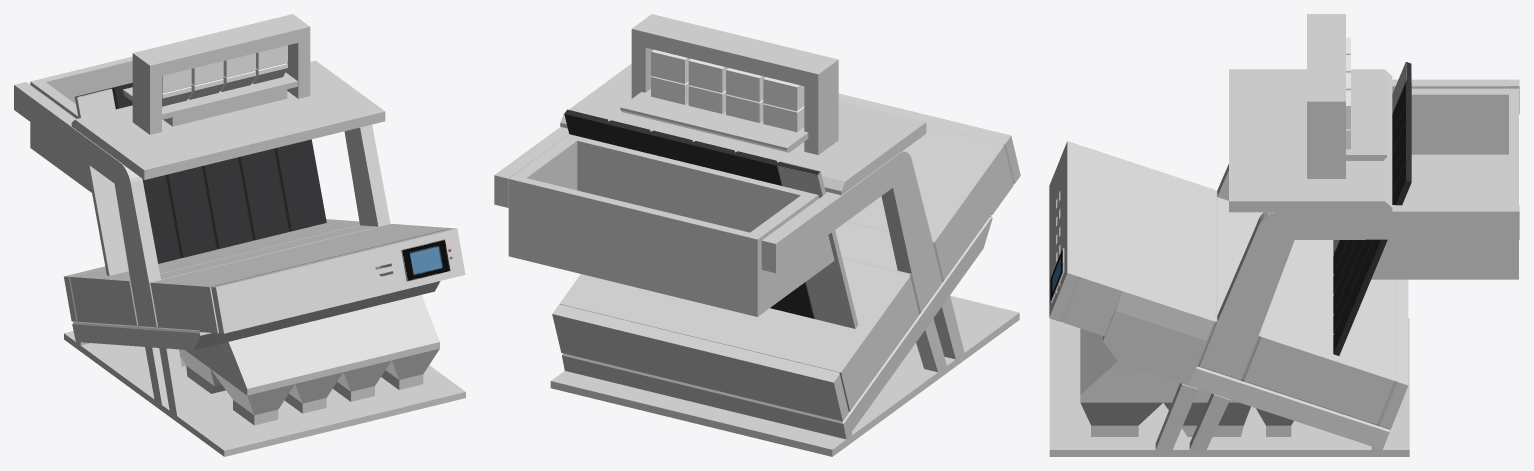
Rendered from separador.fbx.
The picture shows the model from 3 angles, left to right: view 1: azimuth 30°, elevation 25°; view 2: azimuth 150°, elevation 25°; view 3: azimuth 270°, elevation 25°; orthographic projection. The views are drawn at different scales.
Parts seen in each view (by area): view 1: Mesh; view 2: Mesh; view 3: Mesh.
Part boxes in pixels (x1=…): Mesh: x1=14, y1=14, x2=465, y2=456; Mesh: x1=494, y1=14, x2=1020, y2=456; Mesh: x1=1049, y1=14, x2=1519, y2=456.
Bounding box in the file's own units: 253 × 296 × 379.
Materials: 1 (1 with a texture image).
